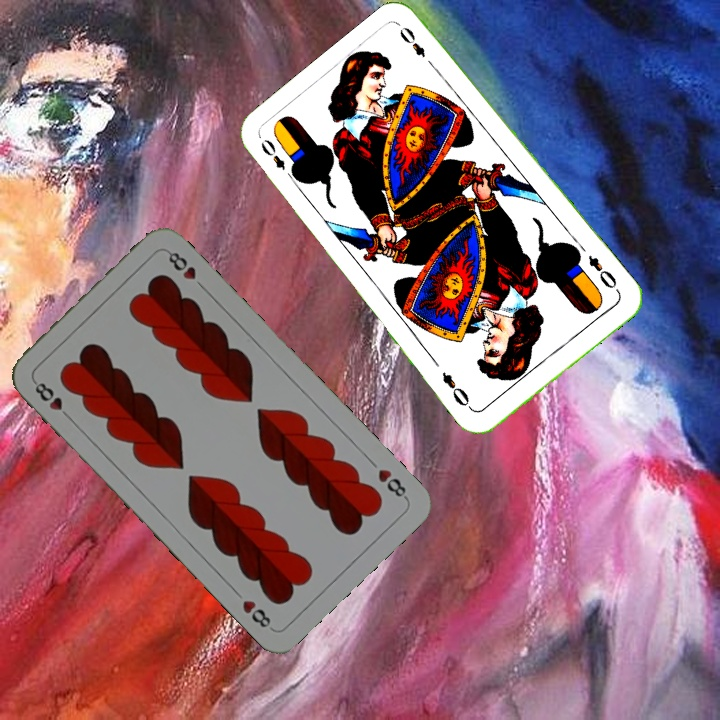EO: (583, 251, 619, 292), (256, 135, 288, 173)
H8: (29, 377, 75, 423), (373, 464, 411, 503)
